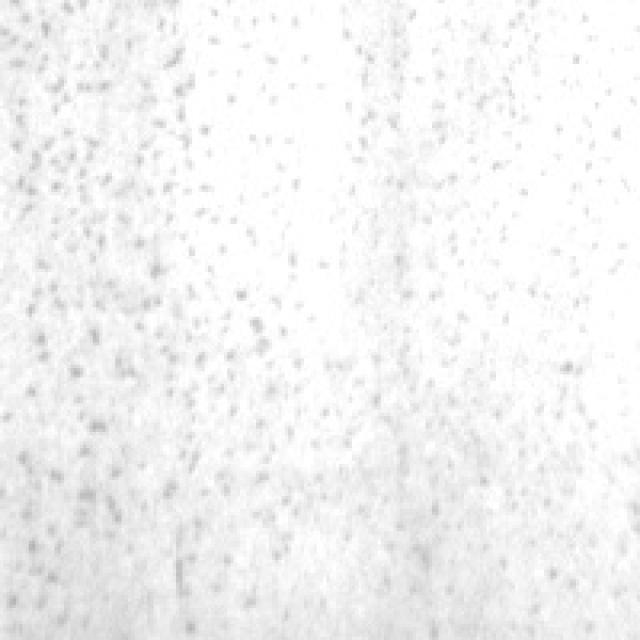pitted_surface: (3, 0, 256, 627), (339, 9, 592, 620)
